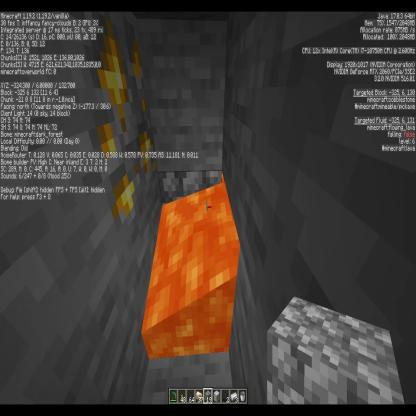gold ore: (70, 0, 149, 235)
